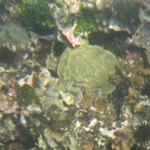alive: (1, 2, 148, 149)
